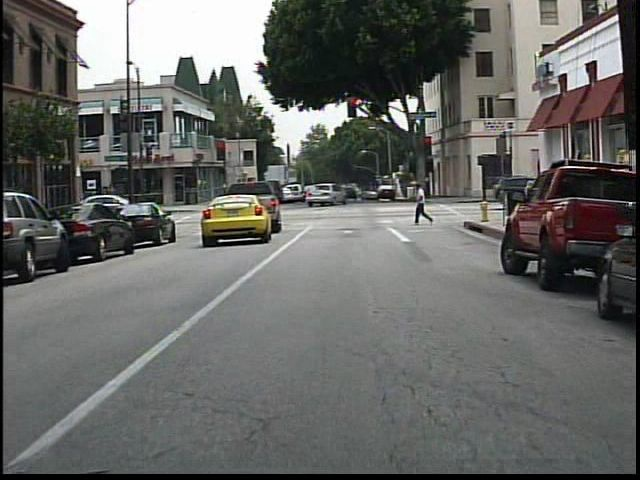person: (411, 180, 437, 227)
